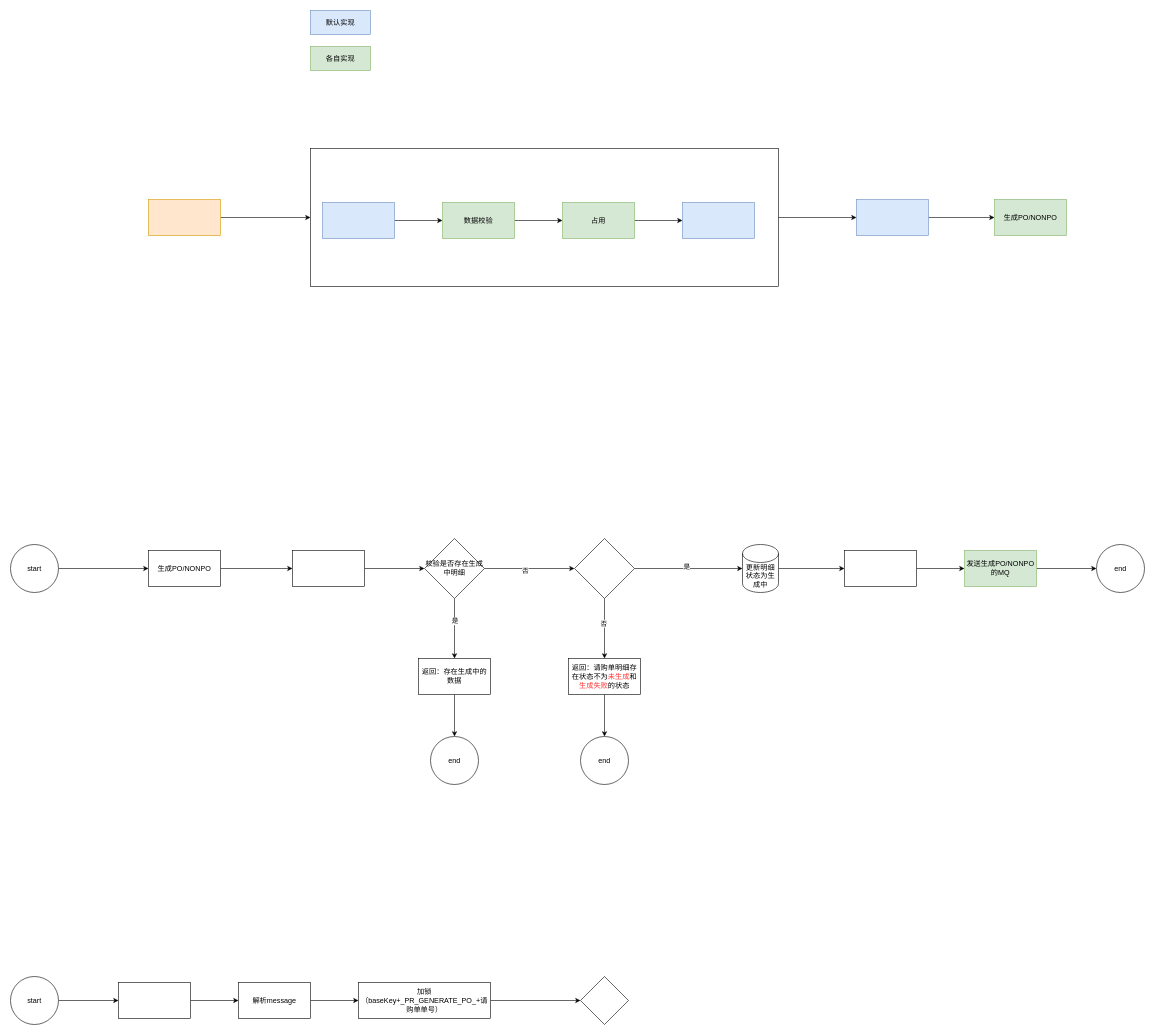
Some shapes in this 1155 by 1035 pixel diagram are drawn without their labels. The shapes that lost their labels are listed below. From the top down, each one's box as (x1, y1, x2, y2) in pixels, then its label:
(148, 199, 220, 236): 请购单新建
(322, 202, 394, 238): 数据组装
(682, 202, 754, 238): 保存数据库
(856, 199, 928, 236): 审批功能
(292, 550, 364, 586): 加锁 （生成类型+单号）
(574, 538, 634, 598): 校验是否包含未生成/生成失败的数据
(844, 550, 916, 586): 释放锁
(118, 982, 190, 1018): 消费生成PO/NONPO的MQ
(580, 976, 628, 1024): 校验明细是否为 生成中 状态
